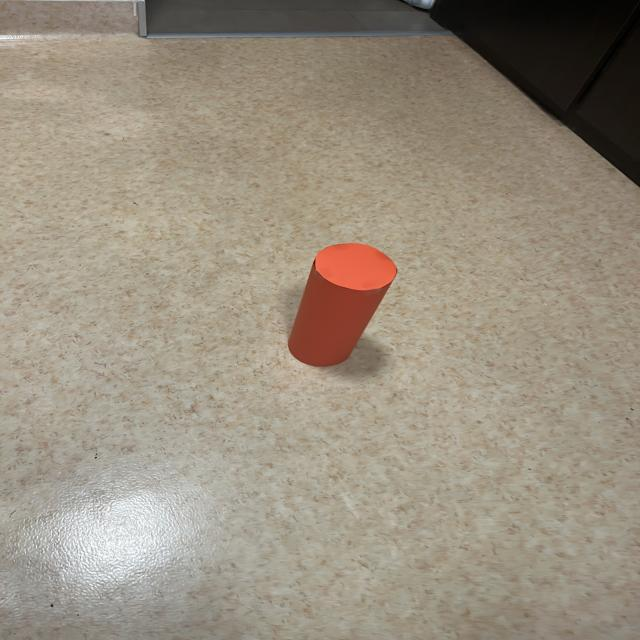przeszkoda: (288, 243, 397, 366)
